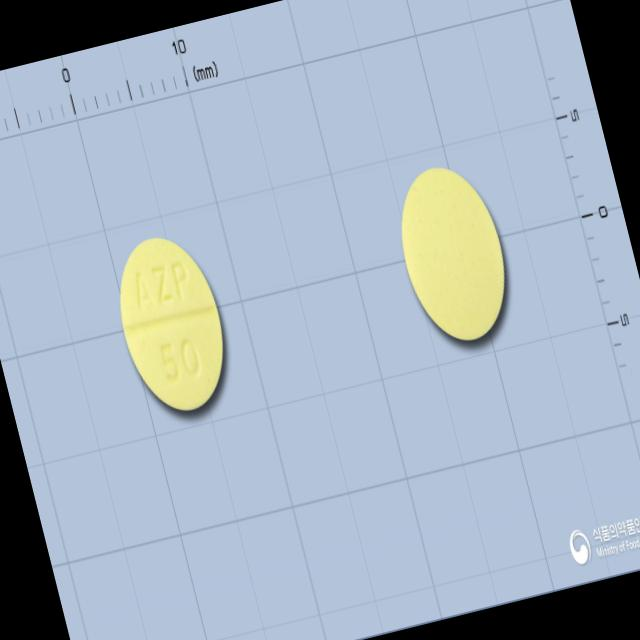Teva Azathioprine Tab: (103, 227, 240, 422)
